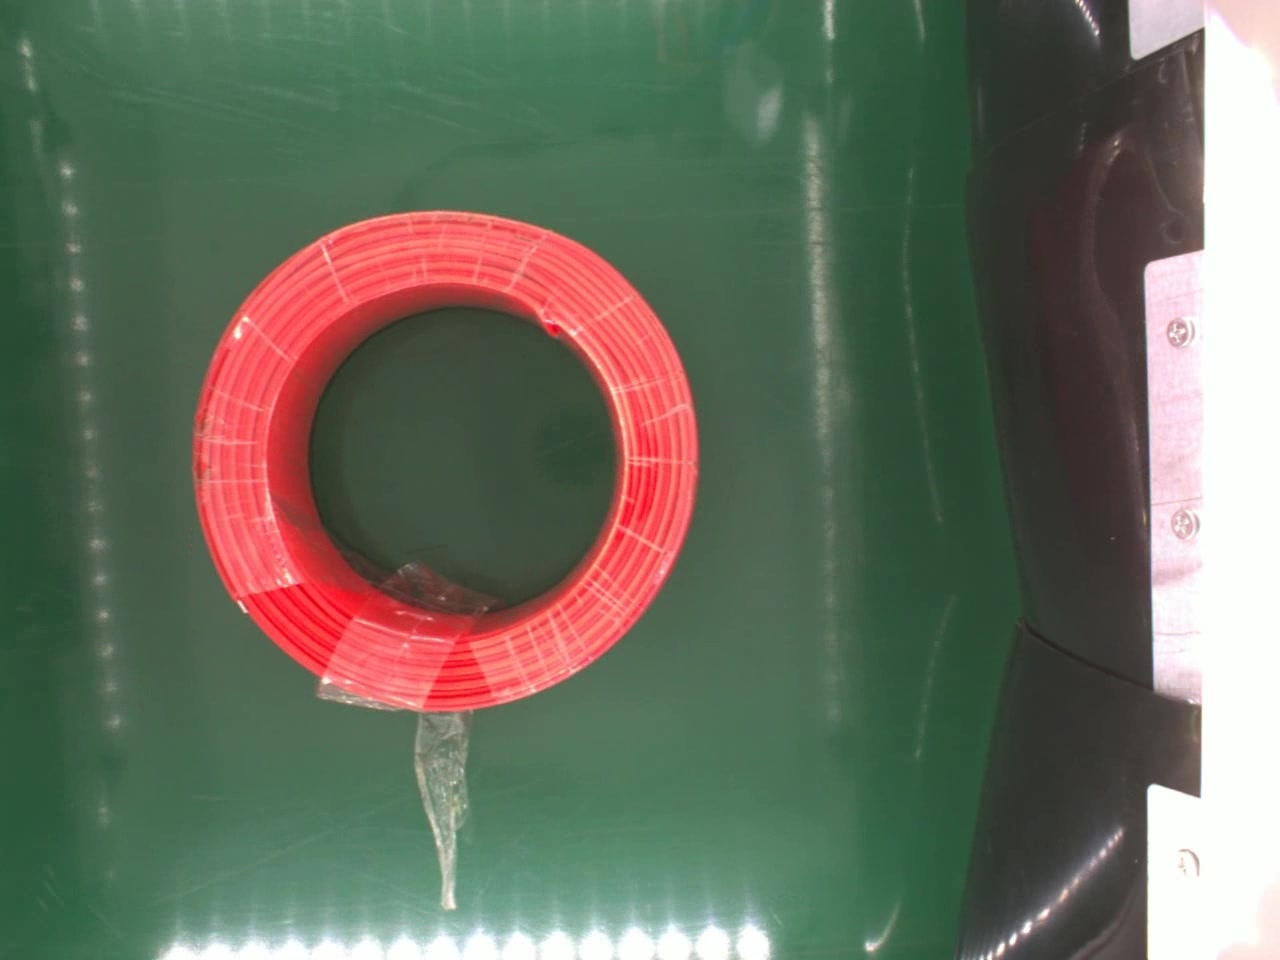red: (187, 206, 698, 713)
